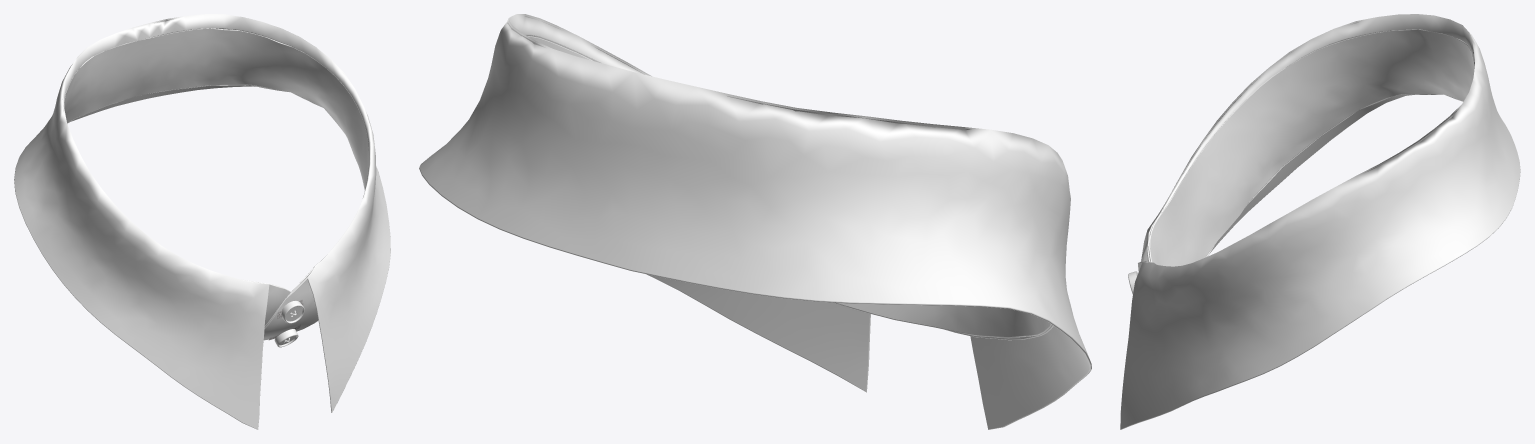
The model's file is Two_Button_Classic_Collar.glb.
The picture shows the model from 3 angles, left to right: view 1: azimuth 30°, elevation 25°; view 2: azimuth 150°, elevation 25°; view 3: azimuth 270°, elevation 25°; orthographic projection. The views are drawn at different scales.
Visible parts, largest first — view 1: Pattern_4935173_Node, inner_Node, Pattern_4935171_Node, button.003; view 2: Pattern_4935173_Node, inner_Node; view 3: Pattern_4935173_Node, inner_Node, Pattern_4935171_Node.
Boxes of the visible parts, x1,y1,x2,y2 form: Pattern_4935173_Node: (14, 14, 390, 429); inner_Node: (64, 28, 368, 327); Pattern_4935171_Node: (67, 28, 368, 340); button.003: (281, 300, 304, 323); Pattern_4935173_Node: (419, 14, 1091, 429); inner_Node: (528, 36, 1051, 337); Pattern_4935173_Node: (1120, 14, 1520, 429); inner_Node: (1141, 29, 1474, 266); Pattern_4935171_Node: (1138, 30, 1459, 271).
Bounding box in the file's own units: 15.92 × 13.1 × 13.52.
9 materials, 2 textured.
